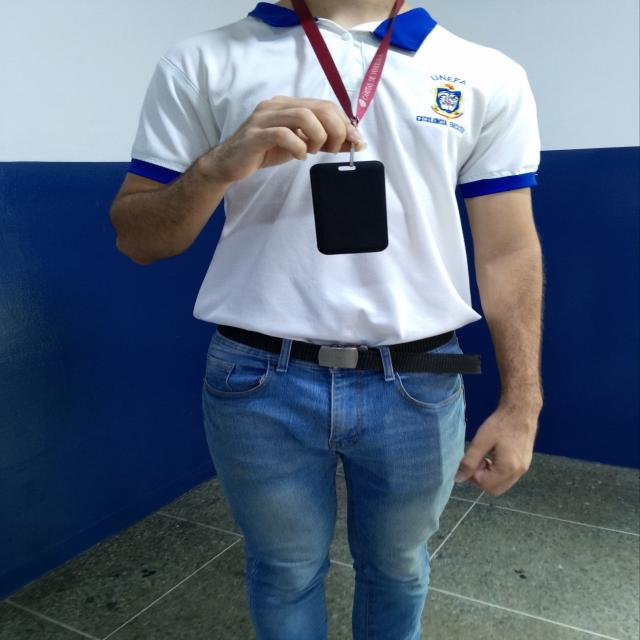carnet: (308, 162, 388, 254)
uniforme_superior: (128, 2, 544, 347)
